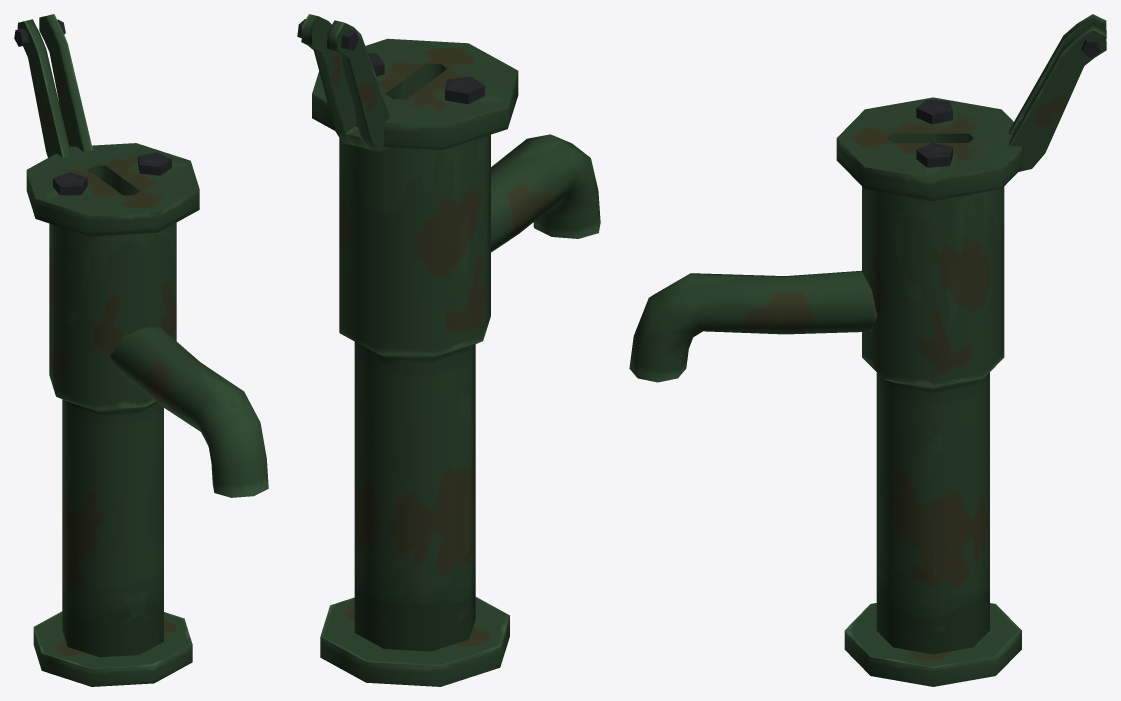
Rendered from SM_PROP_waterpump_battle.fbx.
The picture shows the model from 3 angles, left to right: view 1: azimuth 30°, elevation 25°; view 2: azimuth 150°, elevation 25°; view 3: azimuth 270°, elevation 25°; orthographic projection. The views are drawn at different scales.
Visible parts, largest first — view 1: SM_PROP_waterpump_battle; view 2: SM_PROP_waterpump_battle; view 3: SM_PROP_waterpump_battle.
Part boxes in pixels (box(x1,y1,x2,y2)): SM_PROP_waterpump_battle: box(14, 14, 268, 686); SM_PROP_waterpump_battle: box(297, 14, 600, 686); SM_PROP_waterpump_battle: box(629, 14, 1106, 686).
Size of the model in its own units: 26.05 by 93.19 by 64.23.
